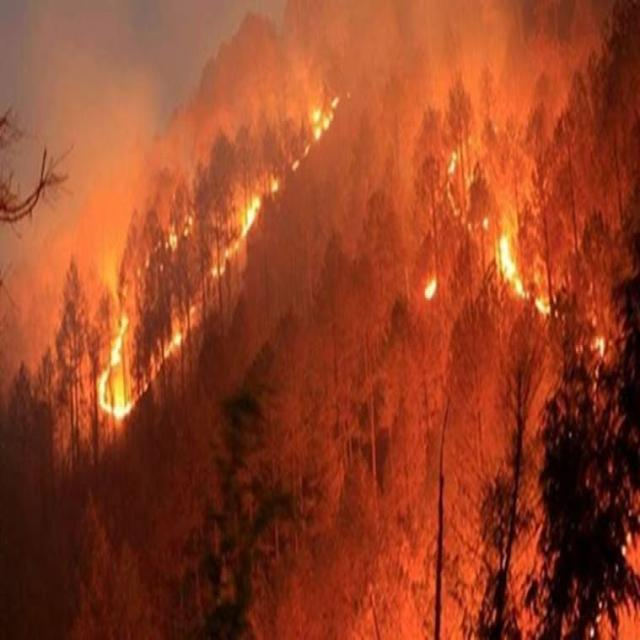Fire: (96, 102, 330, 416), (427, 152, 560, 352)
Smoke: (0, 0, 562, 174)
